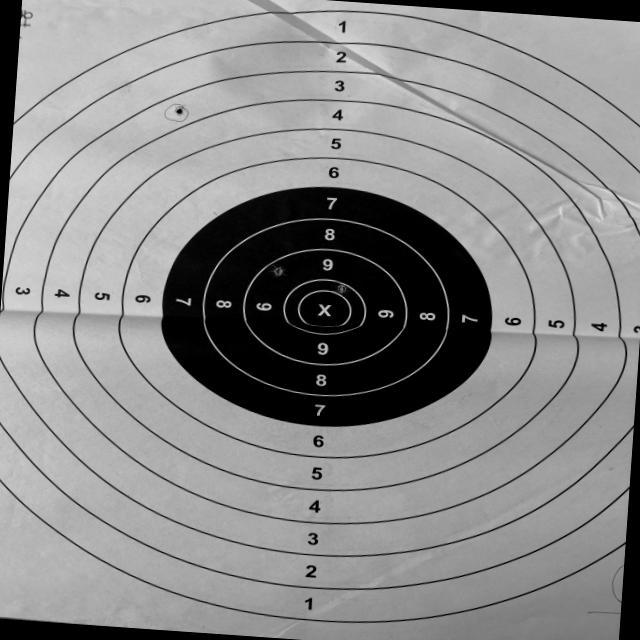bullet: (272, 265, 283, 276), (339, 285, 346, 293), (175, 105, 182, 113)
target: (0, 0, 640, 640)
